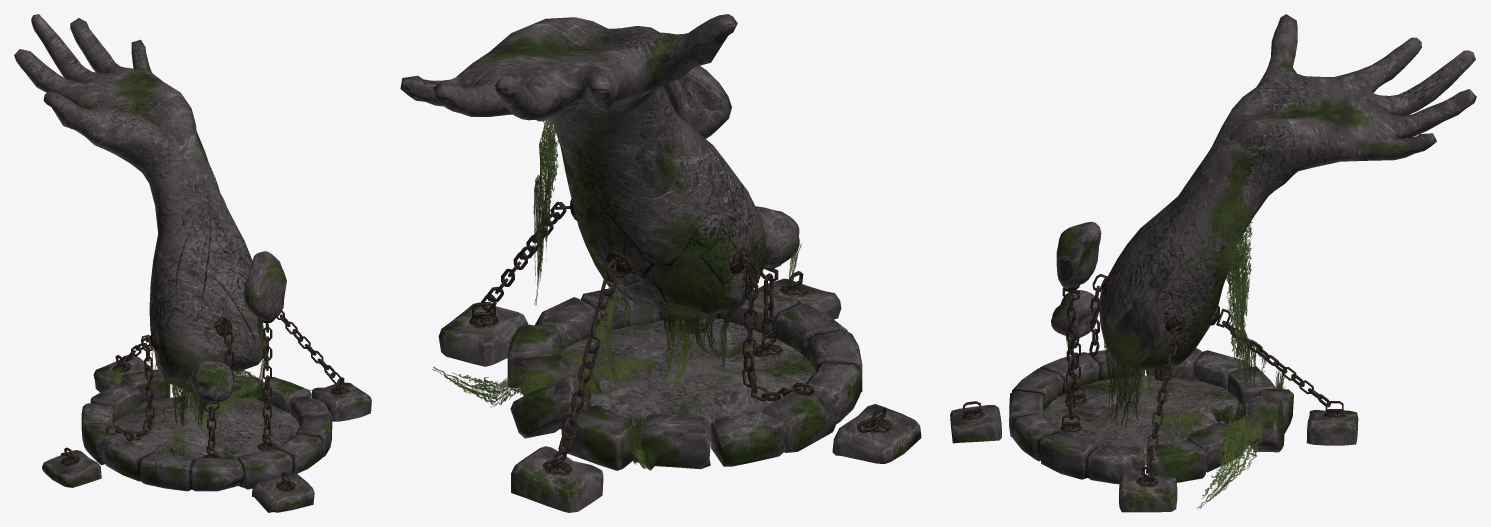
3 renders of one model, left to right at view 1: azimuth 30°, elevation 25°; view 2: azimuth 150°, elevation 25°; view 3: azimuth 270°, elevation 25°, orthographic. The views are drawn at different scales.
Visible parts, largest first — view 1: mano, plantas; view 2: mano, plantas; view 3: mano, plantas.
Boxes of the visible parts, x1,y1,x2,y2 form: mano: (14, 14, 371, 512); plantas: (99, 166, 311, 433); mano: (400, 14, 921, 512); plantas: (432, 118, 801, 470); mano: (950, 14, 1476, 512); plantas: (1066, 188, 1285, 508).
Bounding box in the file's own units: 5.97 × 6.21 × 7.93.
2 materials, 2 textured.
